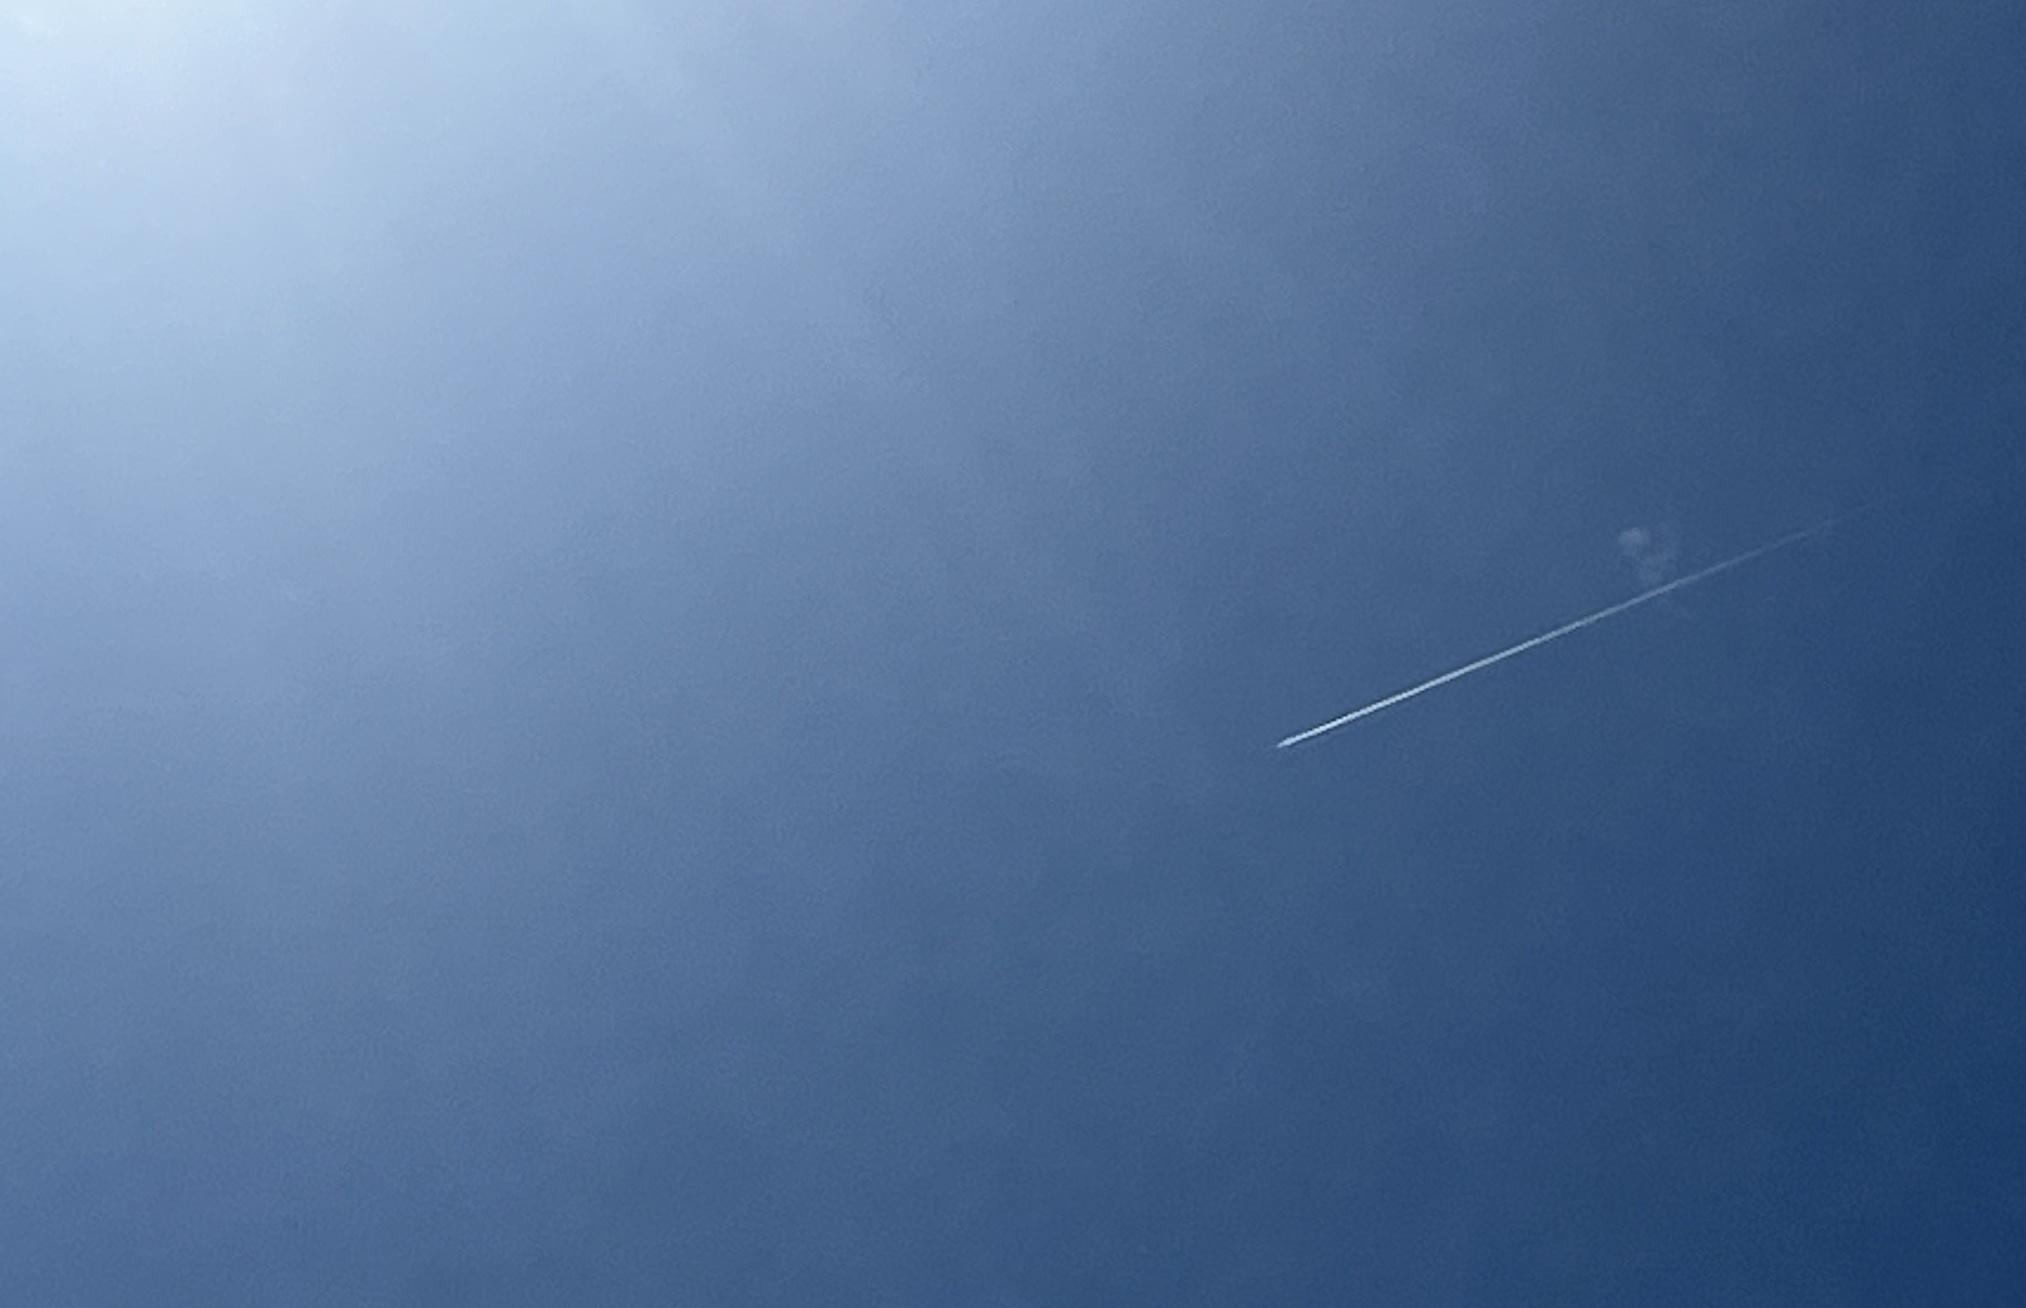Plane: (1263, 512, 1824, 777)
